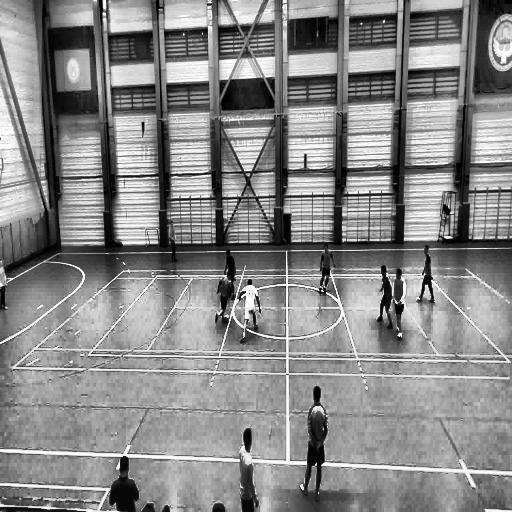ball: (225, 314, 231, 326)
player: (299, 386, 326, 500), (240, 427, 260, 511), (238, 278, 262, 343), (416, 245, 434, 303), (392, 268, 406, 341), (216, 272, 234, 326), (317, 244, 336, 295), (377, 266, 392, 329), (224, 250, 236, 300), (0, 257, 10, 314), (169, 222, 178, 262)
